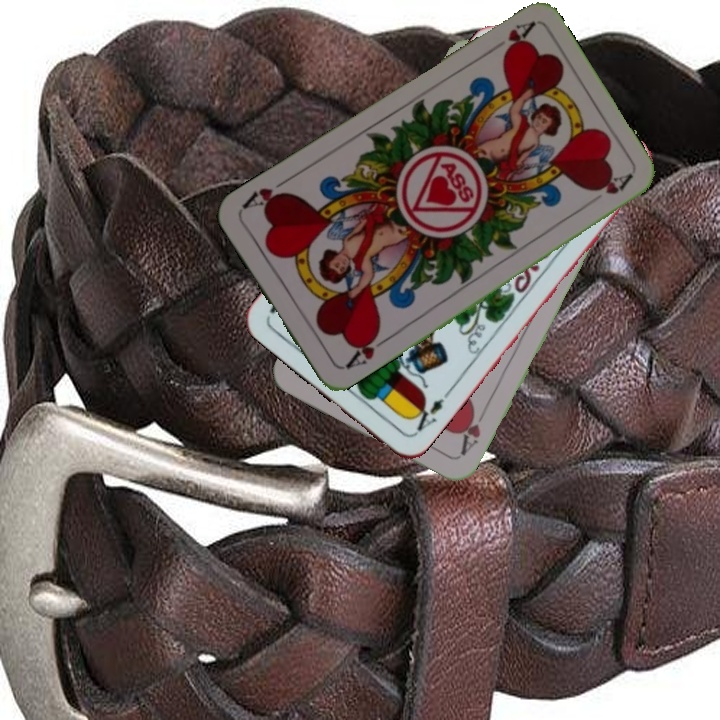EA: (406, 388, 452, 438)
HA: (339, 326, 391, 372), (483, 18, 536, 60), (456, 402, 490, 459)
